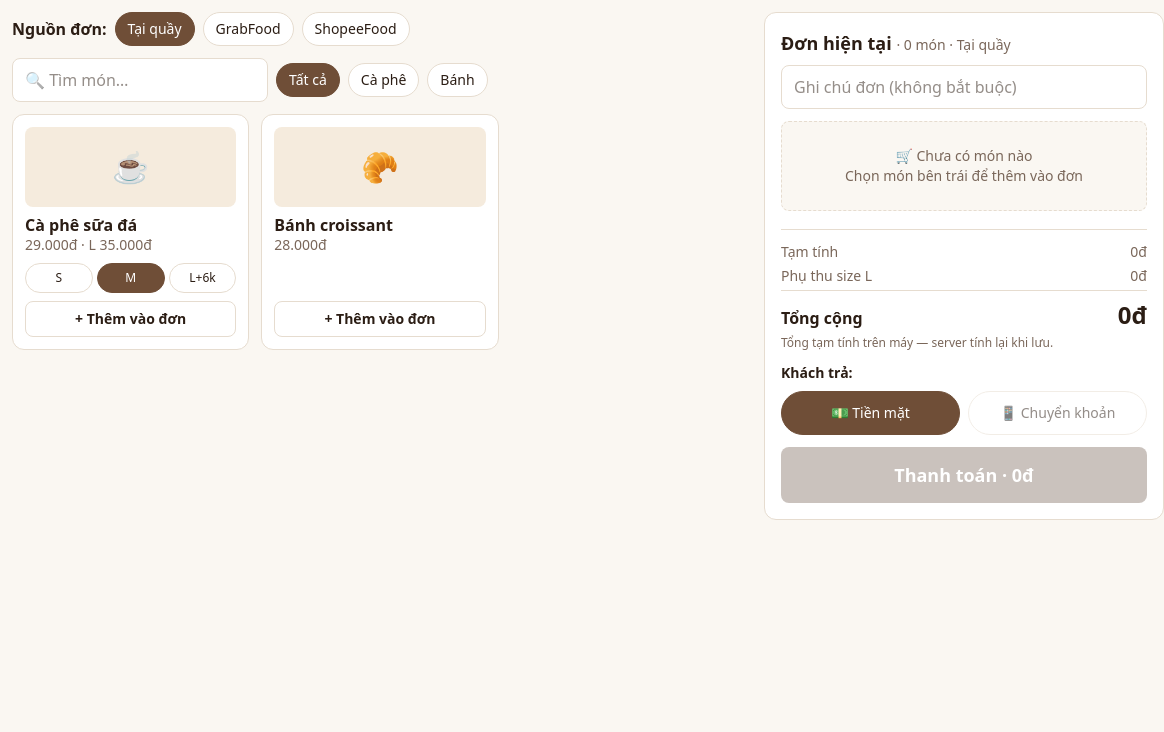
Test: Màn bán hàng (UC02) › size L hiển thị giá cộng 6.000đ, tổng tạm tính đúng (BR05)
The image size is (1164, 732).
Check: the heading "Cà phê sữa đá" is shown, box x1=25 y1=214 x2=137 y2=236
Click the button "L+6k": (202, 278) x1=169 y1=263 x2=236 y2=293
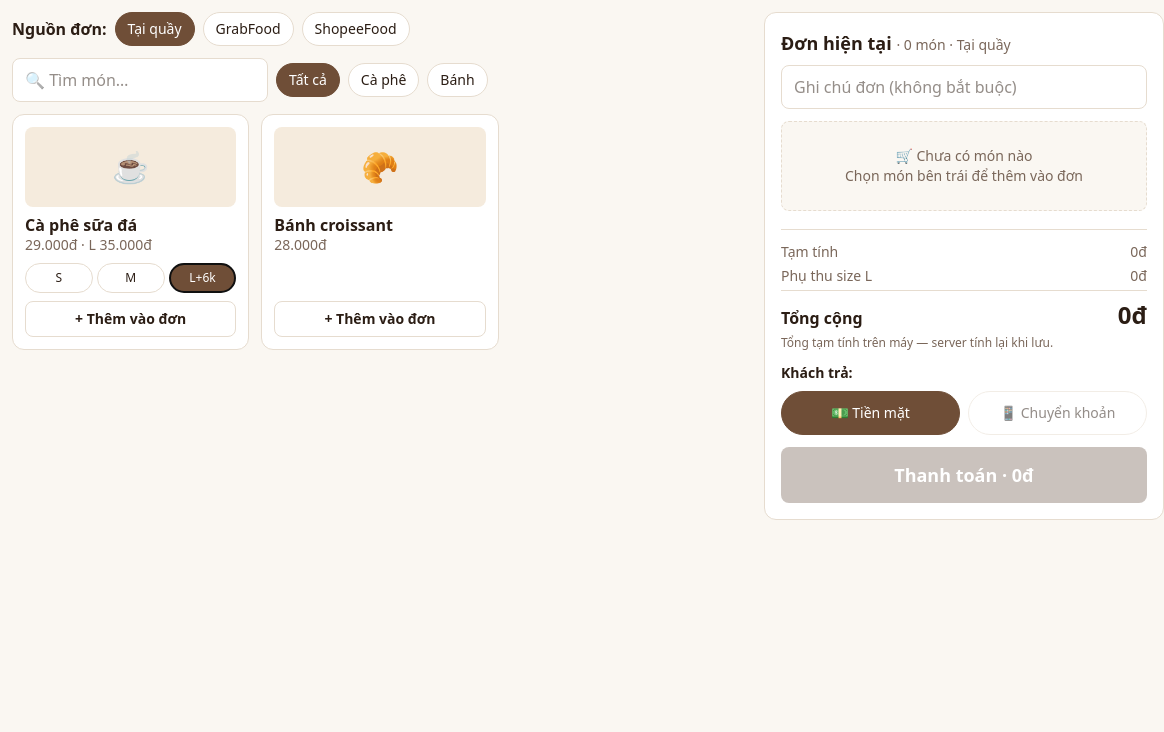
Click the button "+ Thêm vào đơn" below "29.000đ": (131, 319) x1=25 y1=301 x2=236 y2=337
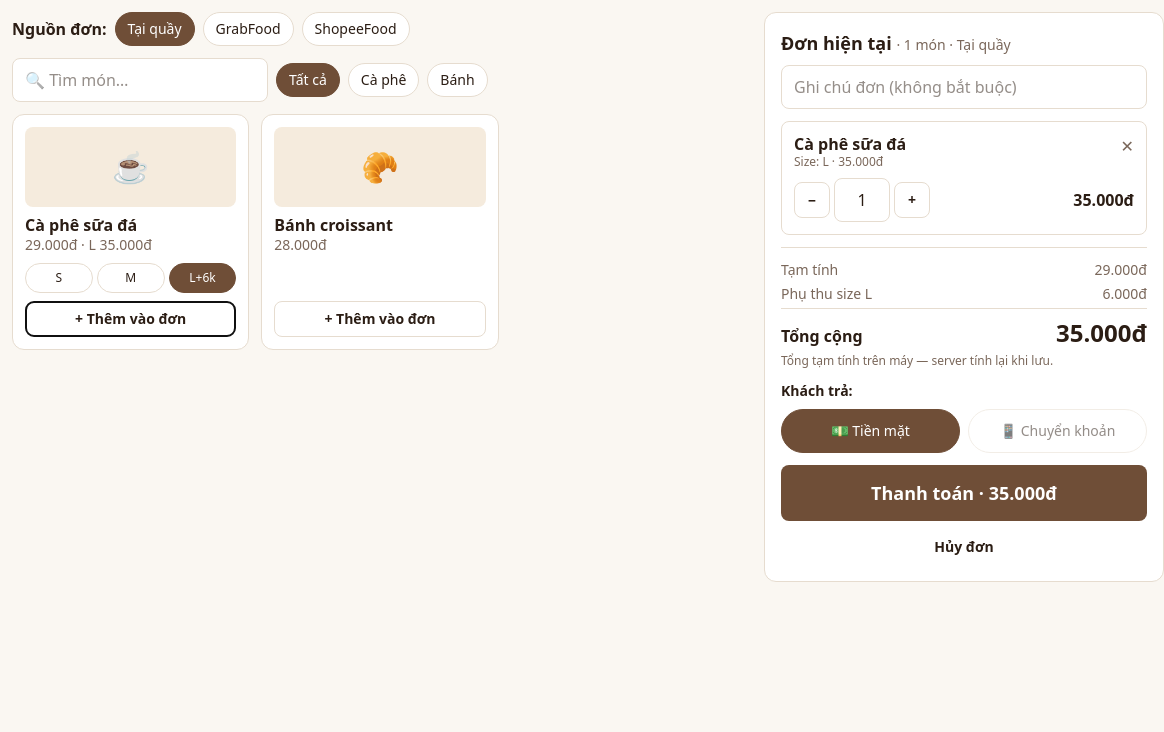
Click the button "+ Thêm vào đơn" below "· L": (131, 319) x1=25 y1=301 x2=236 y2=337
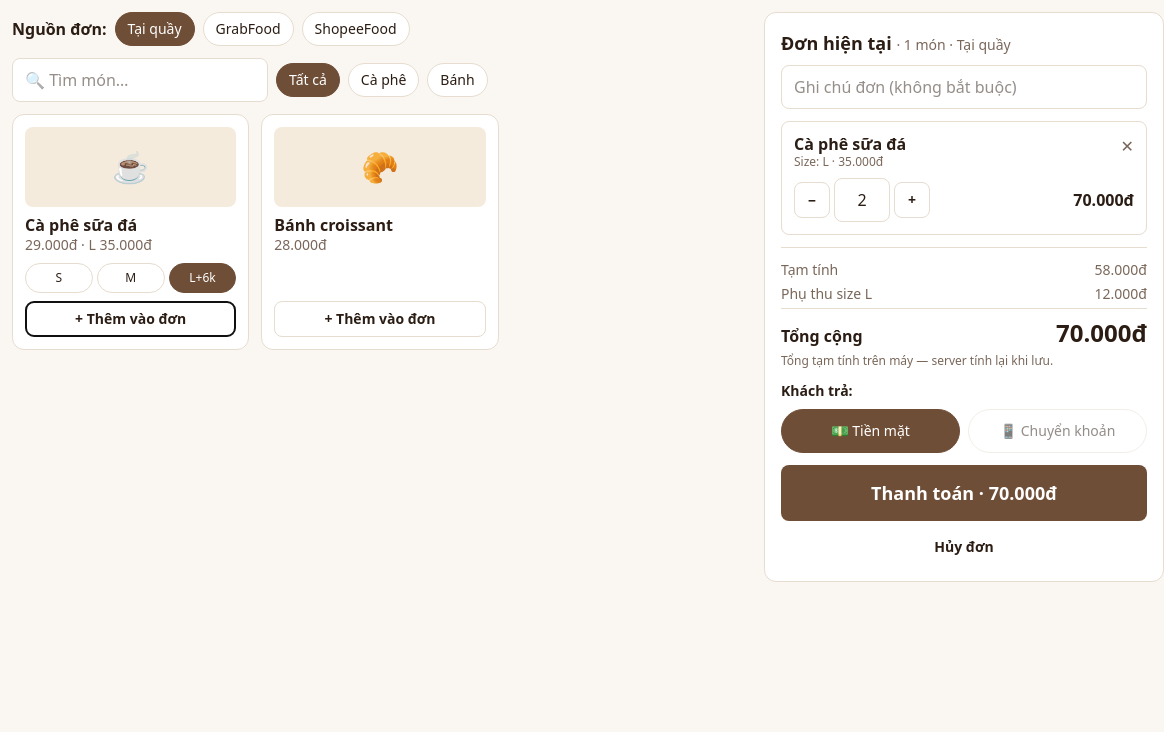
Click the button "+ Thêm vào đơn" below "28.000đ": (380, 319) x1=274 y1=301 x2=486 y2=337
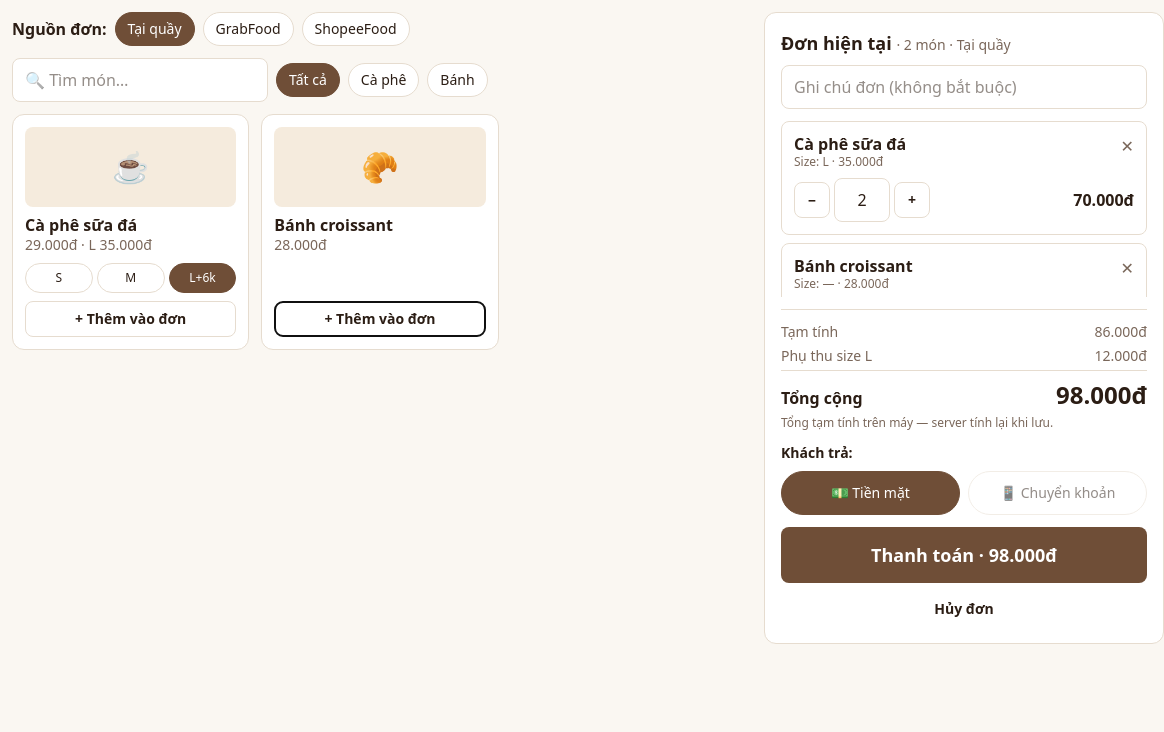
Check: the field named "Số lượng Cà phê sữa đá" holds "2", box x1=834 y1=178 x2=890 y2=222
Check: the button "Thanh toán · 98.000đ" is shown, box x1=781 y1=527 x2=1147 y2=583
